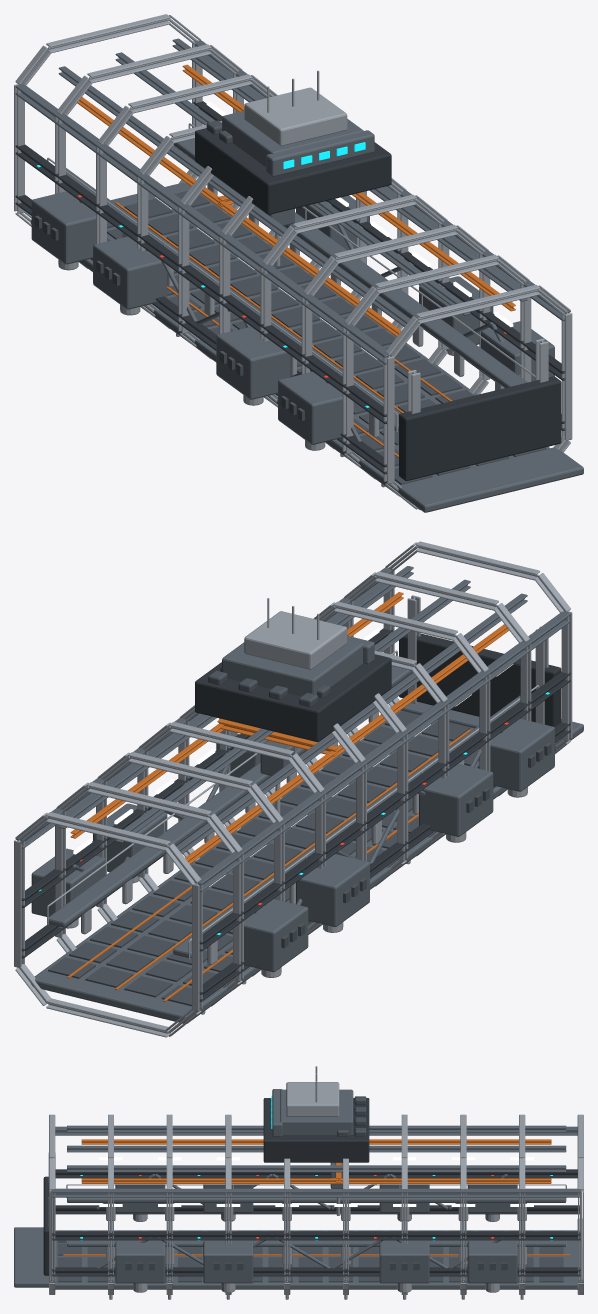
File: orbital_hanger.glb
3 renders of one model, top to bottom at view 1: azimuth 30°, elevation 25°; view 2: azimuth 150°, elevation 25°; view 3: azimuth 270°, elevation 25°, orthographic. The views are drawn at different scales.
Parts seen in each view (by area): view 1: Orbital_Hangar_HG03; view 2: Orbital_Hangar_HG03; view 3: Orbital_Hangar_HG03.
Boxes of the visible parts, x1=… form: Orbital_Hangar_HG03: x1=14, y1=14, x2=583, y2=512; Orbital_Hangar_HG03: x1=14, y1=541, x2=583, y2=1037; Orbital_Hangar_HG03: x1=14, y1=1066, x2=583, y2=1299.
Size of the model in its own units: 14.04 by 15.65 by 38.81.
